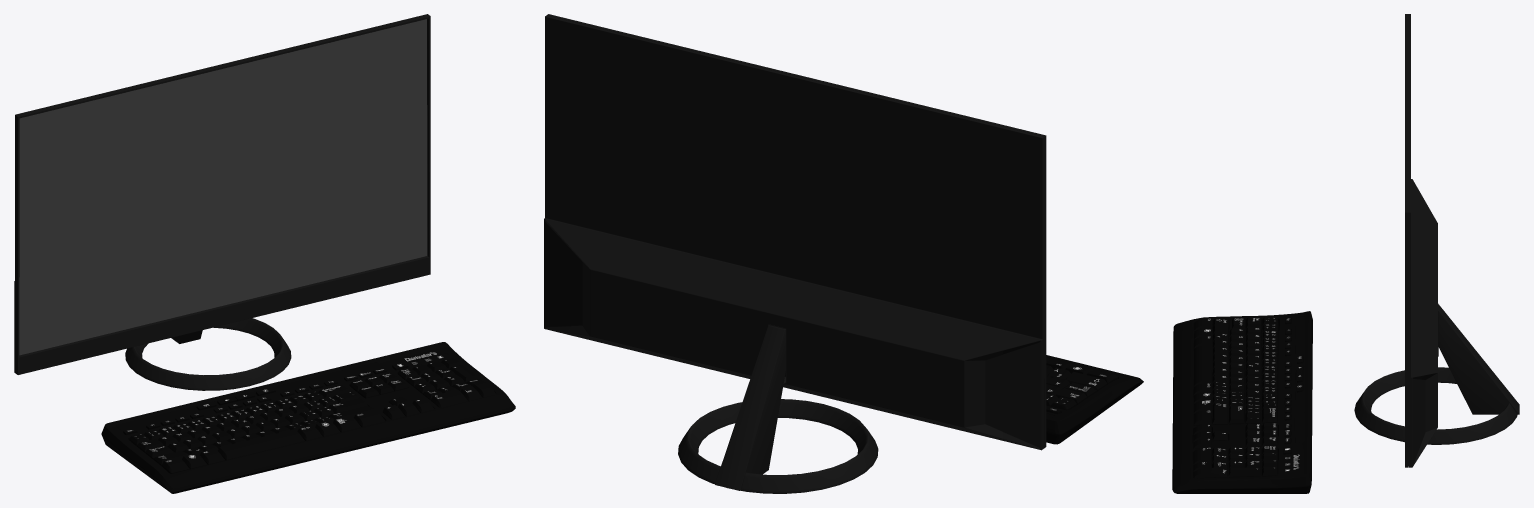
File: Moniteur_clavier.fbx
3 views of the same model, side by side, from view 1: azimuth 30°, elevation 25°; view 2: azimuth 150°, elevation 25°; view 3: azimuth 270°, elevation 25° (orthographic). The views are drawn at different scales.
Parts seen in each view (by area): view 1: Black ASUS VZ249HE-W LED monitor, Klavesnice; view 2: Black ASUS VZ249HE-W LED monitor, Klavesnice; view 3: Klavesnice, Black ASUS VZ249HE-W LED monitor.
Boxes of the visible parts, x1,y1,x2,y2 form: Black ASUS VZ249HE-W LED monitor: (14,14,430,390); Klavesnice: (101,342,515,493); Black ASUS VZ249HE-W LED monitor: (544,14,1046,493); Klavesnice: (1046,355,1143,444); Klavesnice: (1172,311,1312,493); Black ASUS VZ249HE-W LED monitor: (1354,14,1519,467).
Size of the model in its own units: 0.54 by 0.3769 by 0.3987.
Materials: 3 (1 with a texture image).
